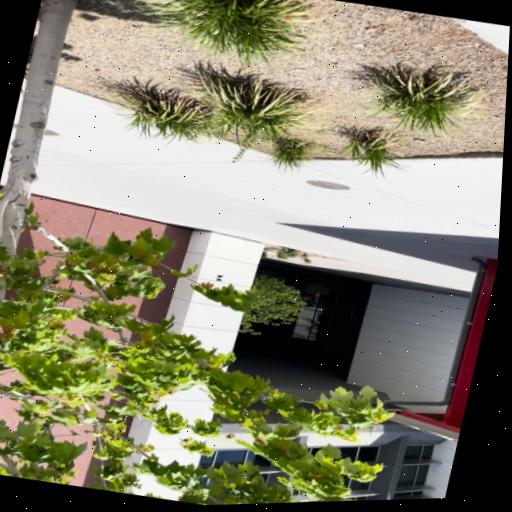target2: (214, 274, 223, 281)
